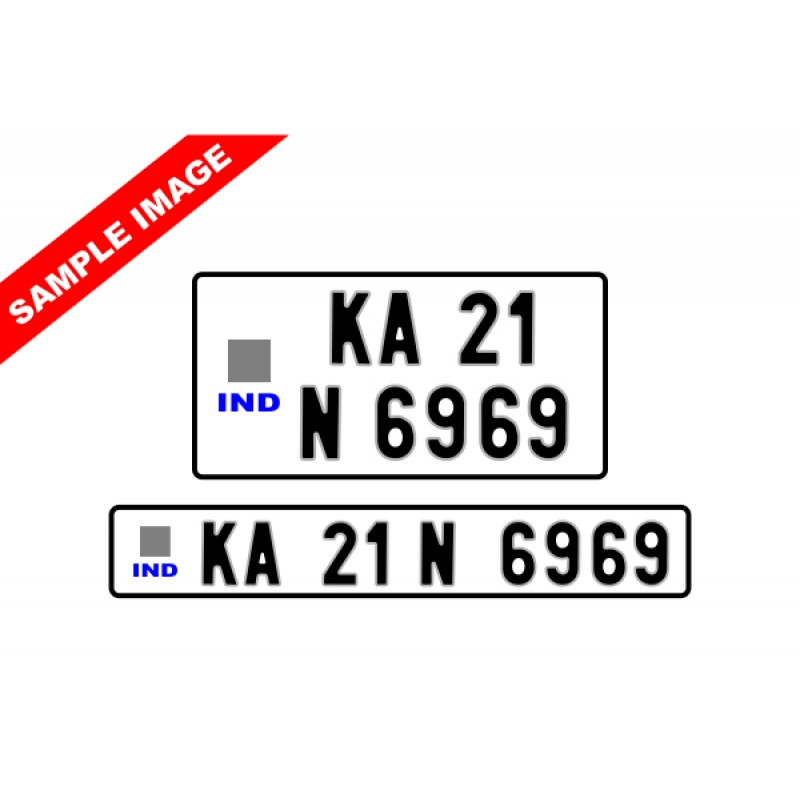number_plate: (188, 267, 613, 485), (107, 503, 694, 601)
